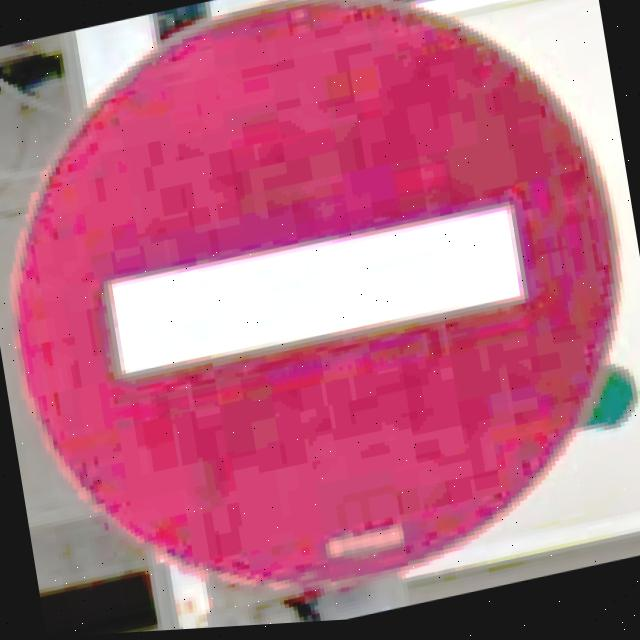noentry: (13, 1, 617, 595)
